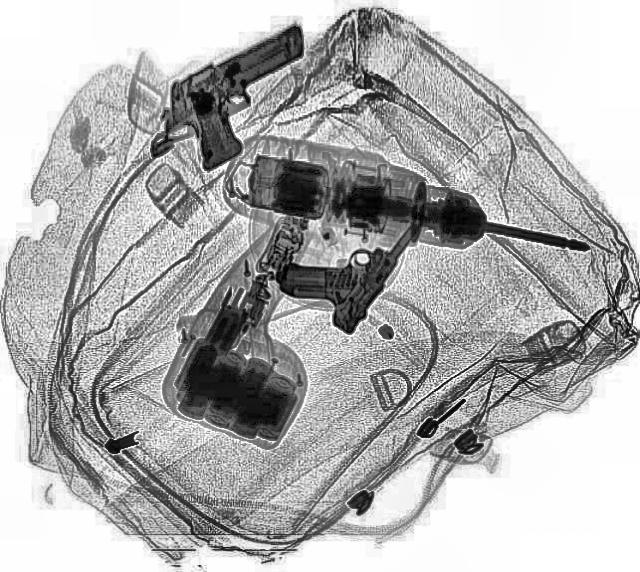Gun: (134, 20, 352, 176), (260, 188, 422, 334)
